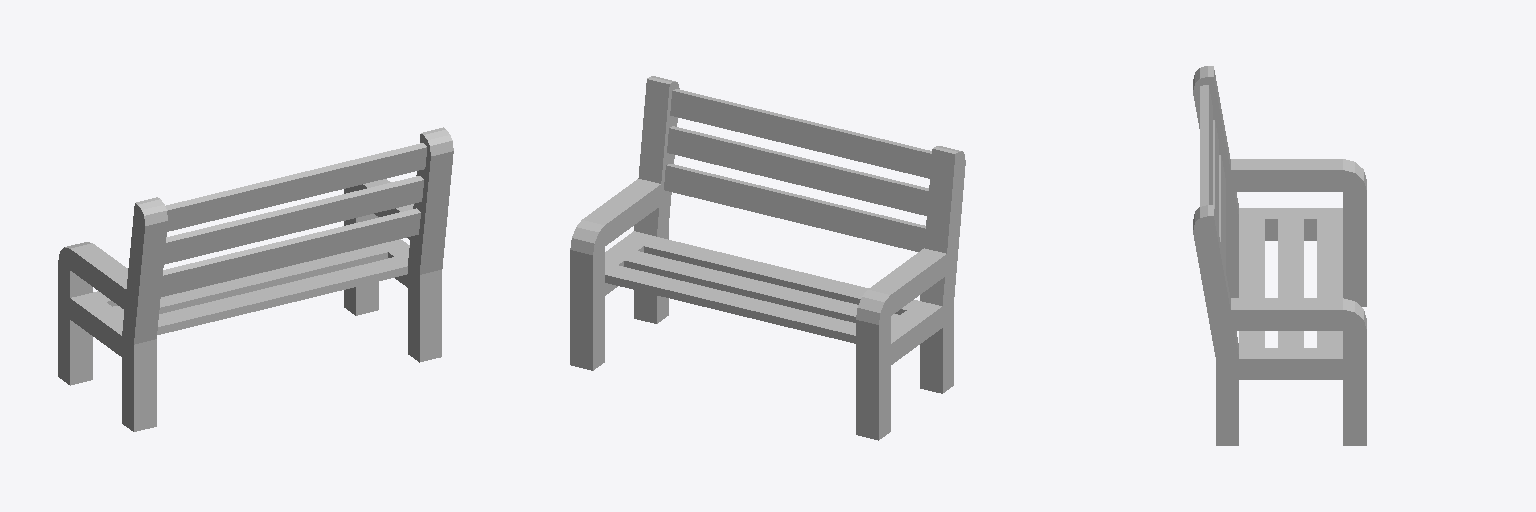
The model's file is Bench_2 3.obj.
3 views of the same model, side by side, from view 1: azimuth 30°, elevation 25°; view 2: azimuth 150°, elevation 25°; view 3: azimuth 270°, elevation 25° (orthographic).
Parts seen in each view (by area): view 1: Bench_2; view 2: Bench_2; view 3: Bench_2.
Boxes of the visible parts, <box> form: Bench_2: <box>58,127,453,431</box>; Bench_2: <box>570,76,965,440</box>; Bench_2: <box>1193,66,1366,445</box>.
Size of the model in its own units: 0.7695 by 0.549 by 0.3758.